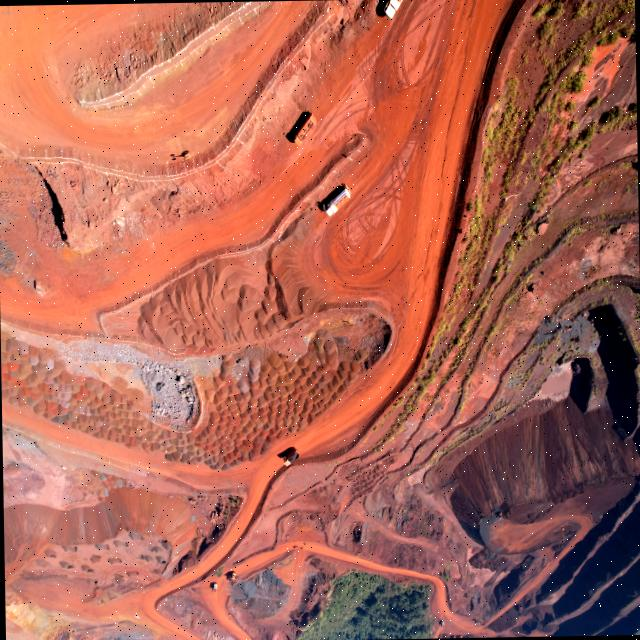Dumper truck: (291, 112, 315, 146), (280, 448, 298, 468), (210, 582, 218, 592), (227, 572, 235, 580), (440, 620, 444, 628)
